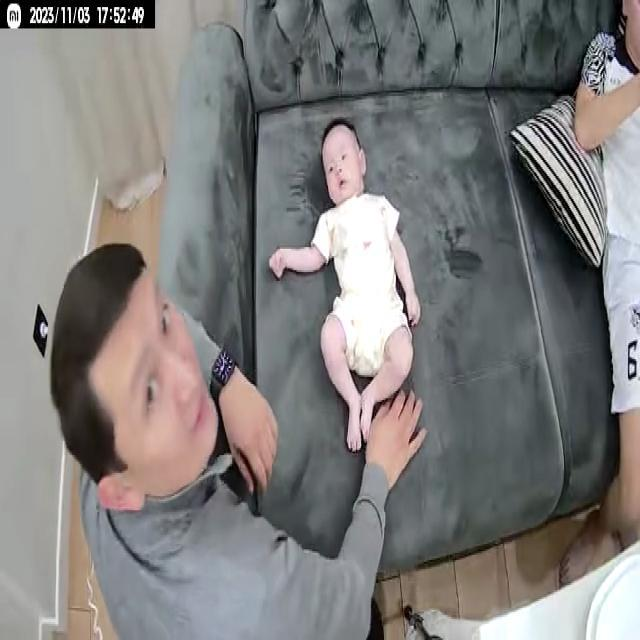baby: (266, 115, 424, 454)
